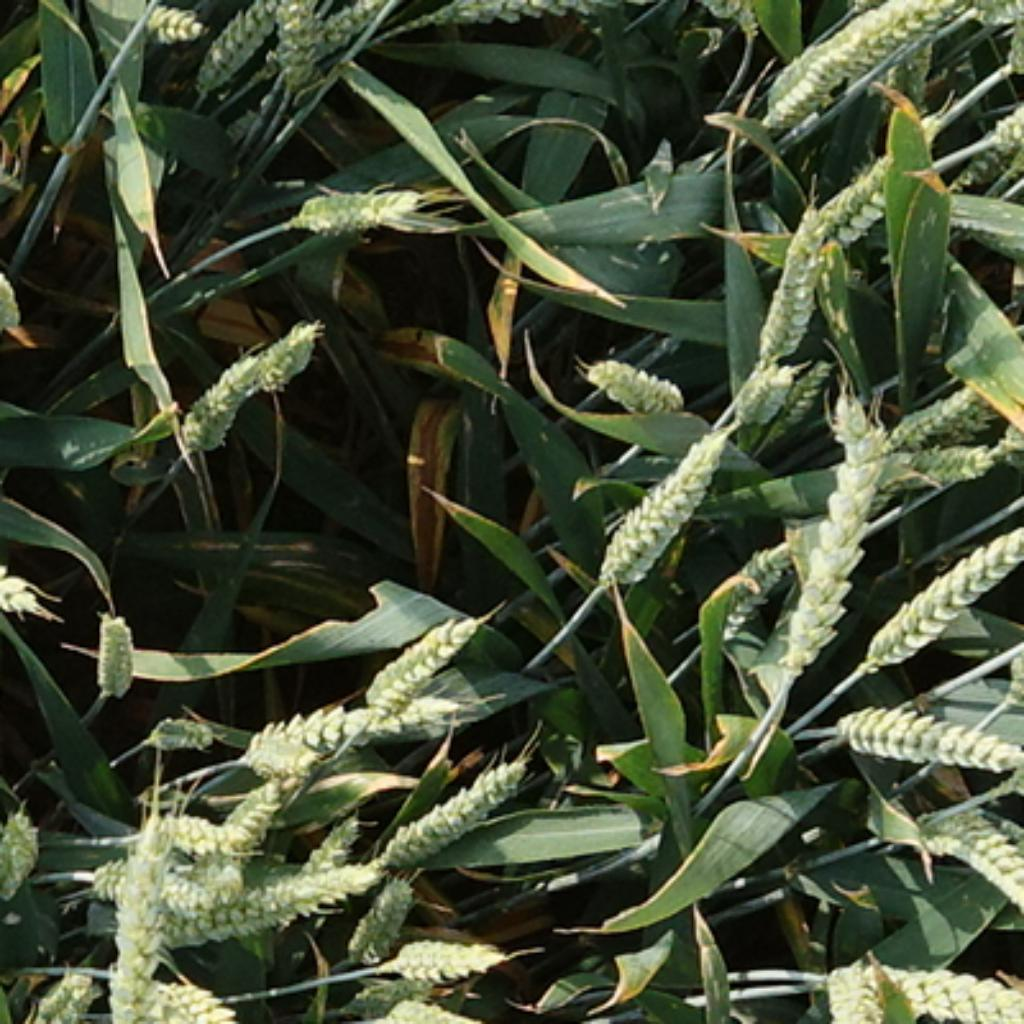0-0: (773, 412, 896, 680), (755, 2, 995, 128), (867, 517, 1024, 673), (588, 422, 734, 586), (140, 849, 384, 942), (798, 104, 949, 253), (163, 304, 314, 450), (235, 693, 481, 778), (378, 739, 540, 865), (742, 209, 852, 366), (824, 693, 1024, 770), (363, 604, 488, 716), (110, 803, 171, 1024), (696, 529, 796, 663), (908, 808, 1024, 921), (289, 179, 458, 240), (283, 1, 402, 86), (140, 970, 309, 1024), (179, 0, 278, 88), (94, 862, 220, 929), (289, 808, 363, 919), (834, 442, 1000, 488), (240, 309, 325, 396), (581, 345, 688, 412), (727, 348, 816, 424), (885, 2, 939, 125), (885, 378, 988, 442), (384, 924, 506, 977), (363, 985, 517, 1024), (209, 768, 289, 842), (803, 957, 890, 1024), (122, 803, 240, 852), (18, 961, 108, 1024), (0, 556, 69, 636), (350, 867, 414, 949), (409, 0, 637, 23), (768, 363, 839, 435), (89, 609, 143, 701), (270, 0, 329, 84), (0, 803, 43, 898), (143, 706, 222, 752), (194, 842, 250, 906), (122, 2, 202, 43), (821, 381, 872, 442), (0, 250, 28, 335), (985, 107, 1024, 156)
